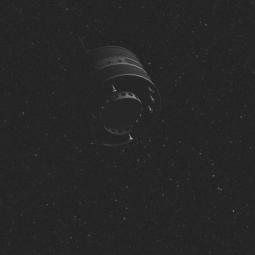double_start: (62, 36, 159, 154)
